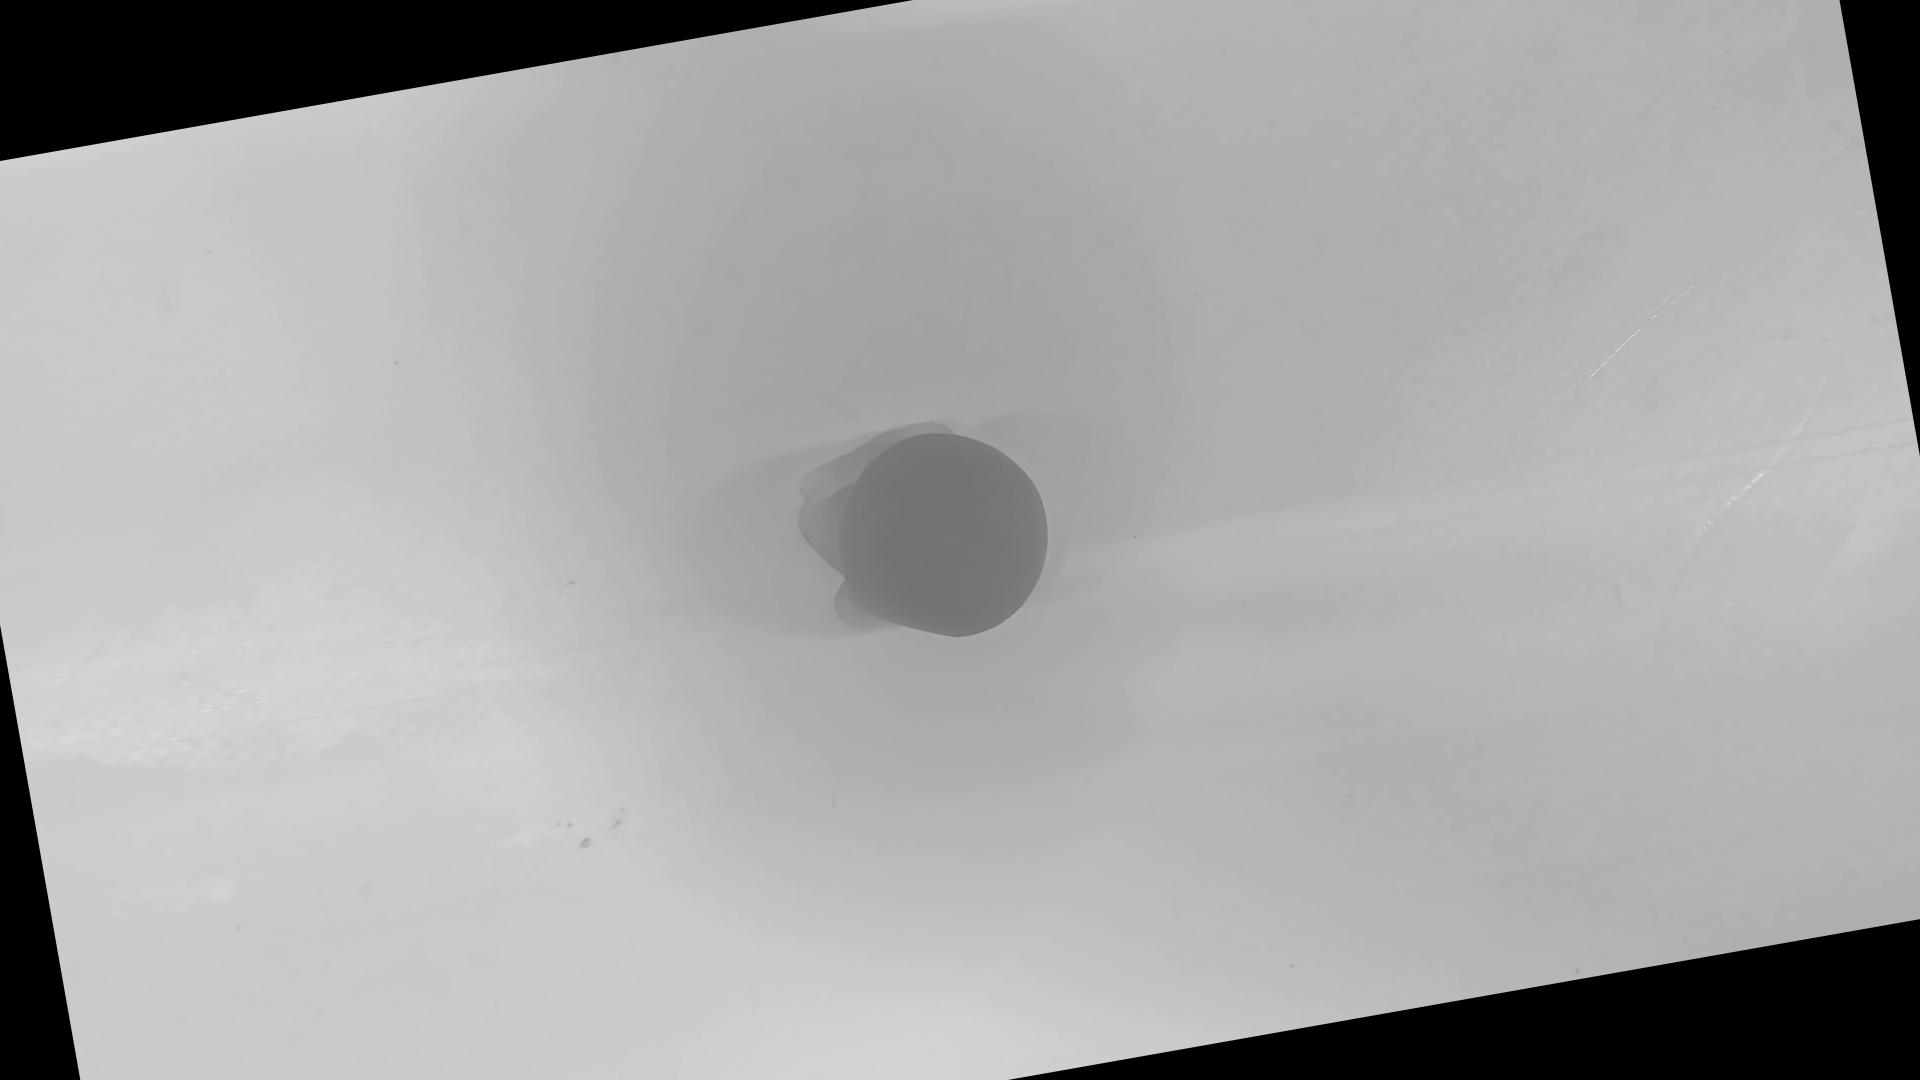abnormal: (787, 401, 1068, 665)
